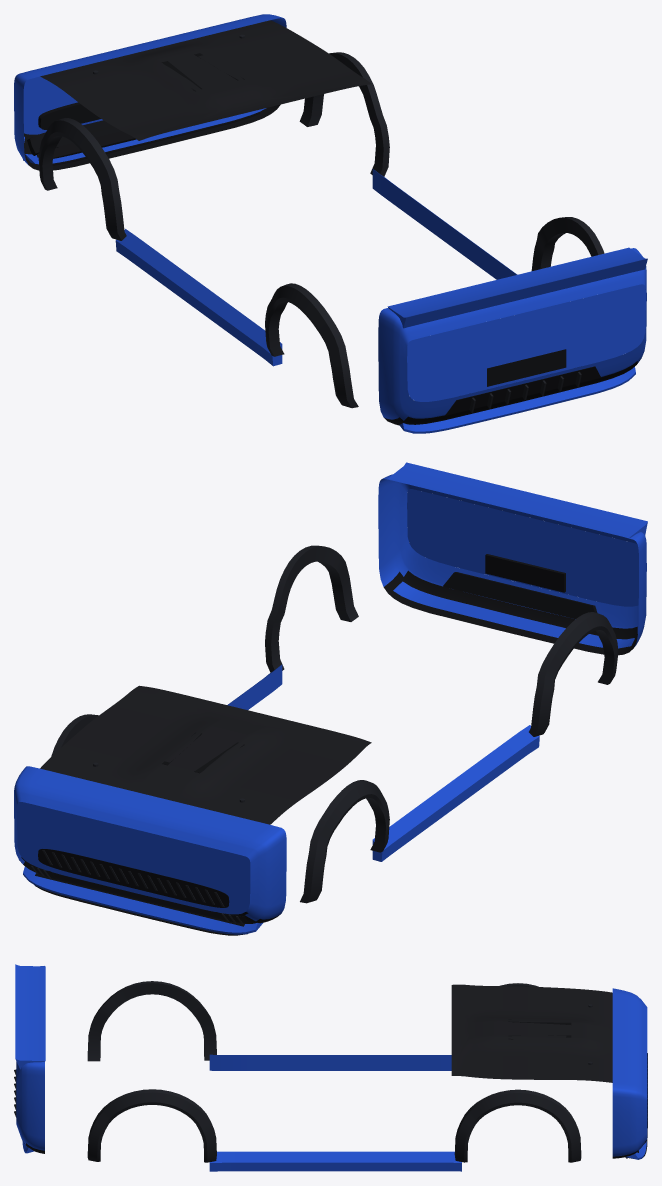
File: kit_drift.glb
3 views of the same model, one above another, from view 1: azimuth 30°, elevation 25°; view 2: azimuth 150°, elevation 25°; view 3: azimuth 270°, elevation 25° (orthographic). The views are drawn at different scales.
Visible parts, largest first — view 1: bumper_front__drift, hood__drift, skirts__drift, bumper_rear__drift, spoiler__drift; view 2: bumper_front__drift, hood__drift, bumper_rear__drift, skirts__drift, spoiler__drift; view 3: skirts__drift, hood__drift, bumper_front__drift, spoiler__drift, bumper_rear__drift.
Boxes of the visible parts, x1=… form: bumper_front__drift: x1=14, y1=14, x2=645, y2=401; hood__drift: x1=40, y1=20, x2=371, y2=140; skirts__drift: x1=38, y1=52, x2=604, y2=408; bumper_rear__drift: x1=378, y1=248, x2=646, y2=433; spoiler__drift: x1=387, y1=247, x2=647, y2=328; bumper_front__drift: x1=14, y1=489, x2=638, y2=935; hood__drift: x1=40, y1=685, x2=371, y2=824; bumper_rear__drift: x1=378, y1=474, x2=646, y2=655; skirts__drift: x1=51, y1=545, x2=618, y2=903; spoiler__drift: x1=388, y1=462, x2=647, y2=537; skirts__drift: x1=87, y1=981, x2=581, y2=1171; hood__drift: x1=451, y1=984, x2=612, y2=1082; bumper_front__drift: x1=612, y1=988, x2=647, y2=1159; spoiler__drift: x1=15, y1=964, x2=45, y2=1069; bumper_rear__drift: x1=14, y1=966, x2=44, y2=1153.
Size of what is drawn, in the model's own units: 2 by 0.8796 by 4.66.
